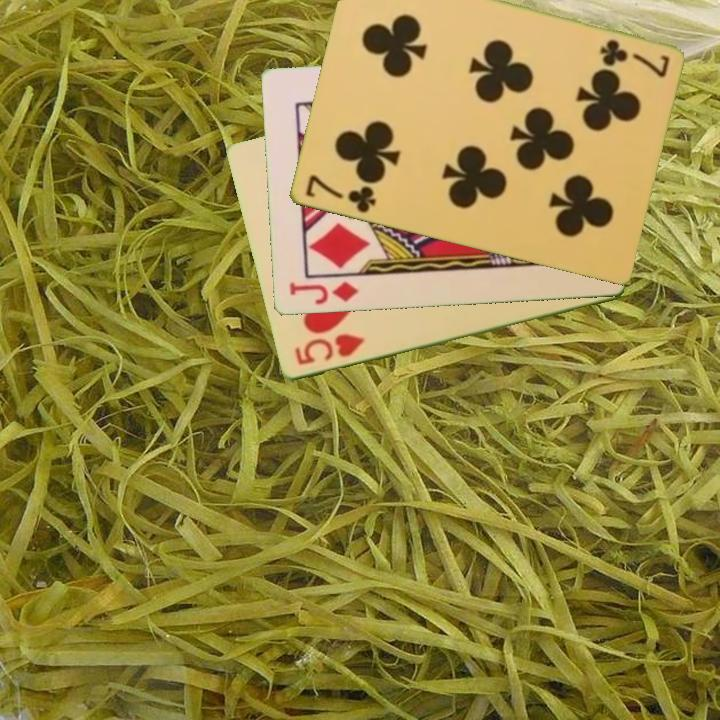5h: (291, 331, 367, 369)
7c: (301, 171, 378, 217), (596, 36, 672, 80)
Jd: (285, 278, 361, 308)
